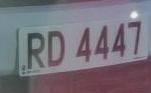4: (73, 23, 95, 68), (93, 20, 112, 67), (110, 18, 129, 65)
7: (128, 17, 147, 61)
D: (44, 27, 69, 71)
R: (23, 29, 48, 72)
